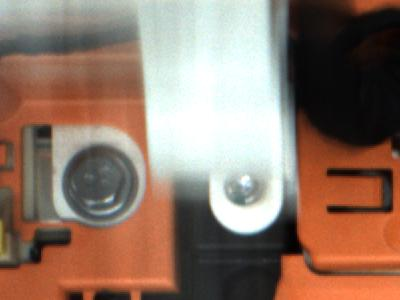nut_b: (57, 141, 141, 222)
